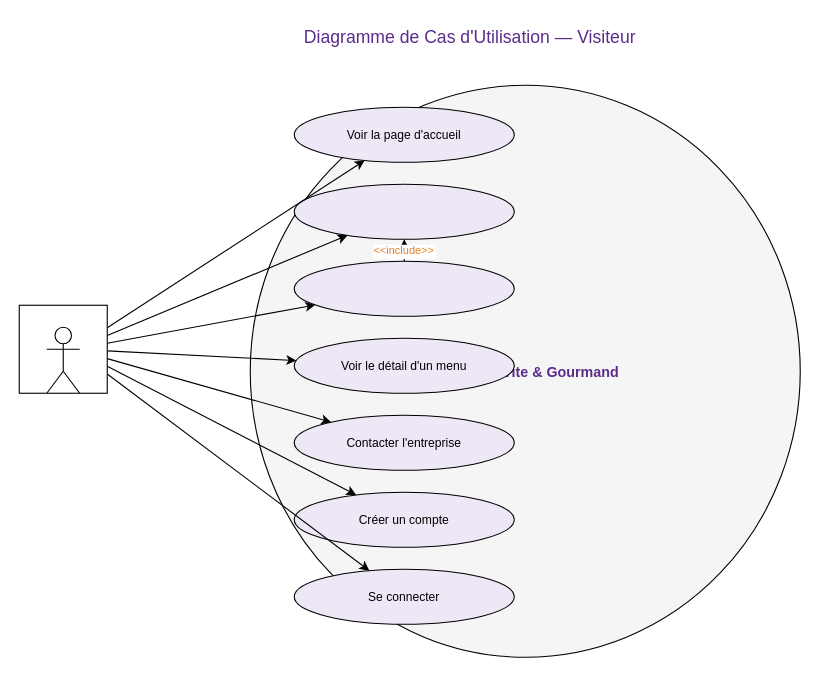
Some shapes in this 820 by 677 pixel diagram are drawn without their labels. Here are the shapes that lost their labels. From the top down, the centre of each, then its label:
At (403,211): "Consulter les menus".
At (403,288): "Filtrer les menus".
At (63,359): "Visiteur".
